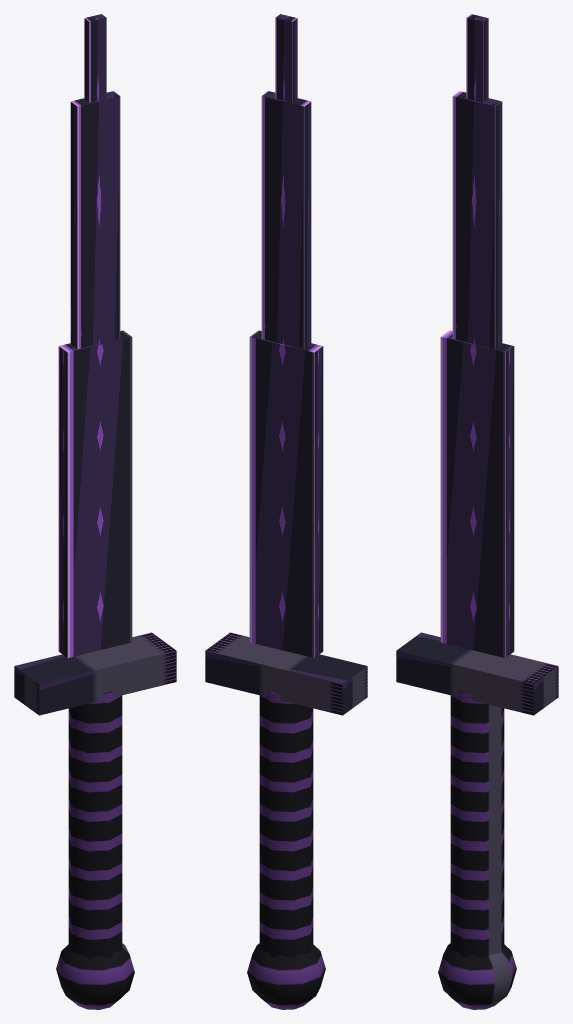
File: void_blade.glb
3 views of the same model, side by side, from view 1: azimuth 30°, elevation 25°; view 2: azimuth 150°, elevation 25°; view 3: azimuth 330°, elevation 25° (orthographic).
Parts seen in each view (by area): view 1: void_blade; view 2: void_blade; view 3: void_blade.
Boxes of the visible parts, left/top/right/bottom form: void_blade: left=14, top=14, right=176, bottom=1009; void_blade: left=205, top=14, right=367, bottom=1009; void_blade: left=396, top=14, right=558, bottom=1009.
Bounding box in the file's own units: 0.16 × 1.1 × 0.0761.
1 material, 1 textured.
